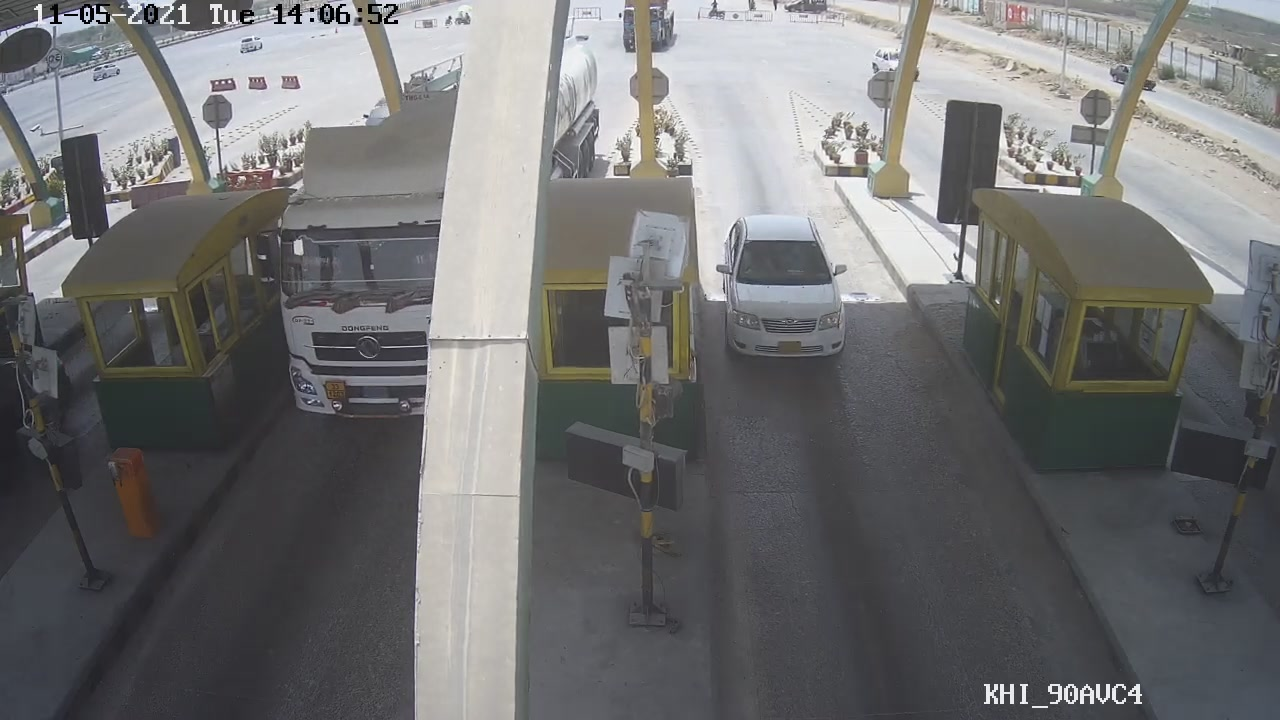F1: (707, 215, 868, 365)
